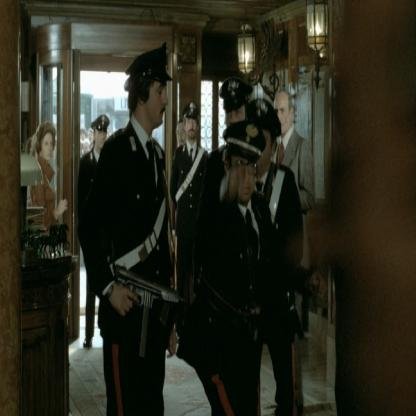Gun: (111, 260, 193, 354)
